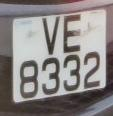2: (82, 47, 103, 93)
3: (39, 54, 64, 98), (61, 52, 84, 96)
8: (17, 54, 41, 102)
E: (60, 8, 84, 57)
V: (40, 13, 62, 59)
